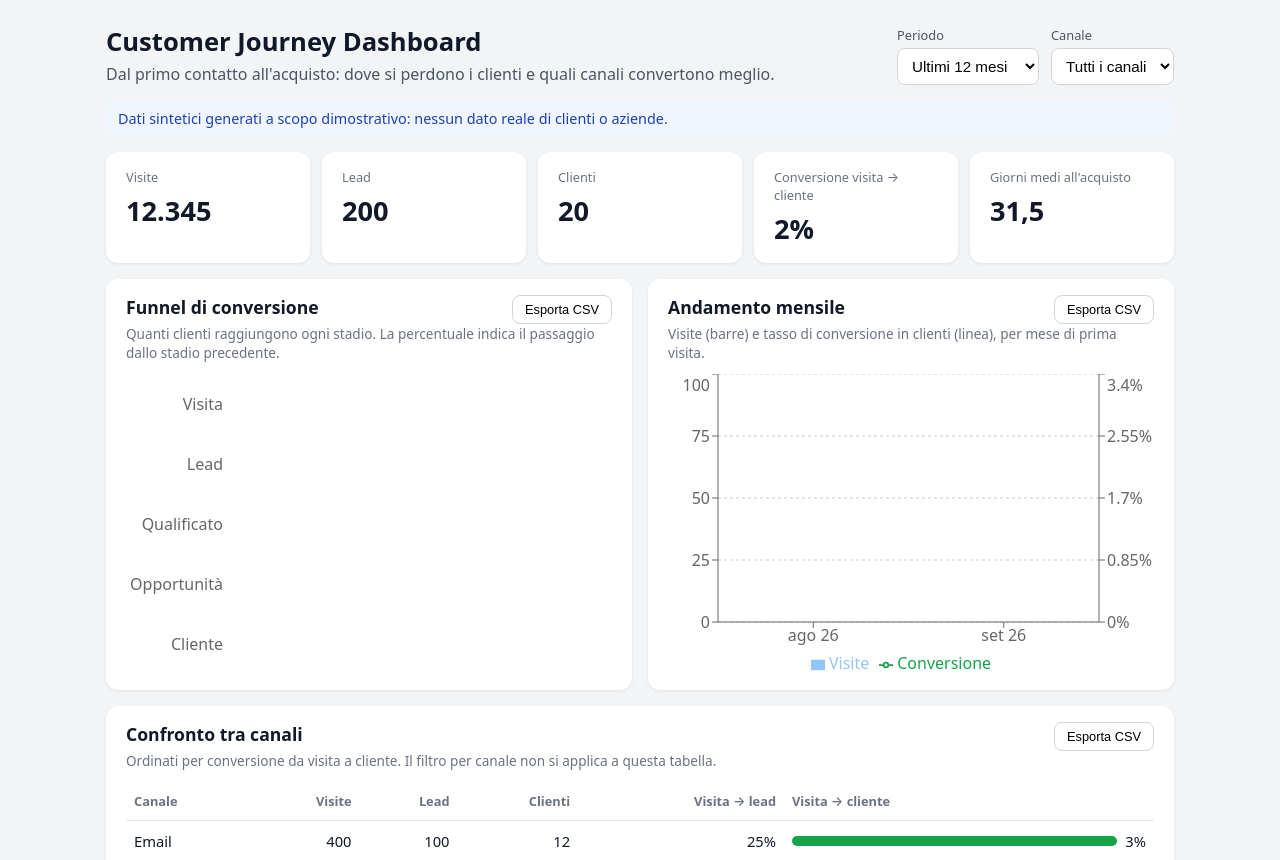
App - filtri e stati › avvisa se la data di inizio è successiva a quella di fine e non chiama l'API
Expected: the text "Conversione visita → cliente" is shown, [774,168,899,204]
Select "Personalizzato" in the dropdown labelled "Periodo". click: (968, 66)
box: [897,48,1039,85]
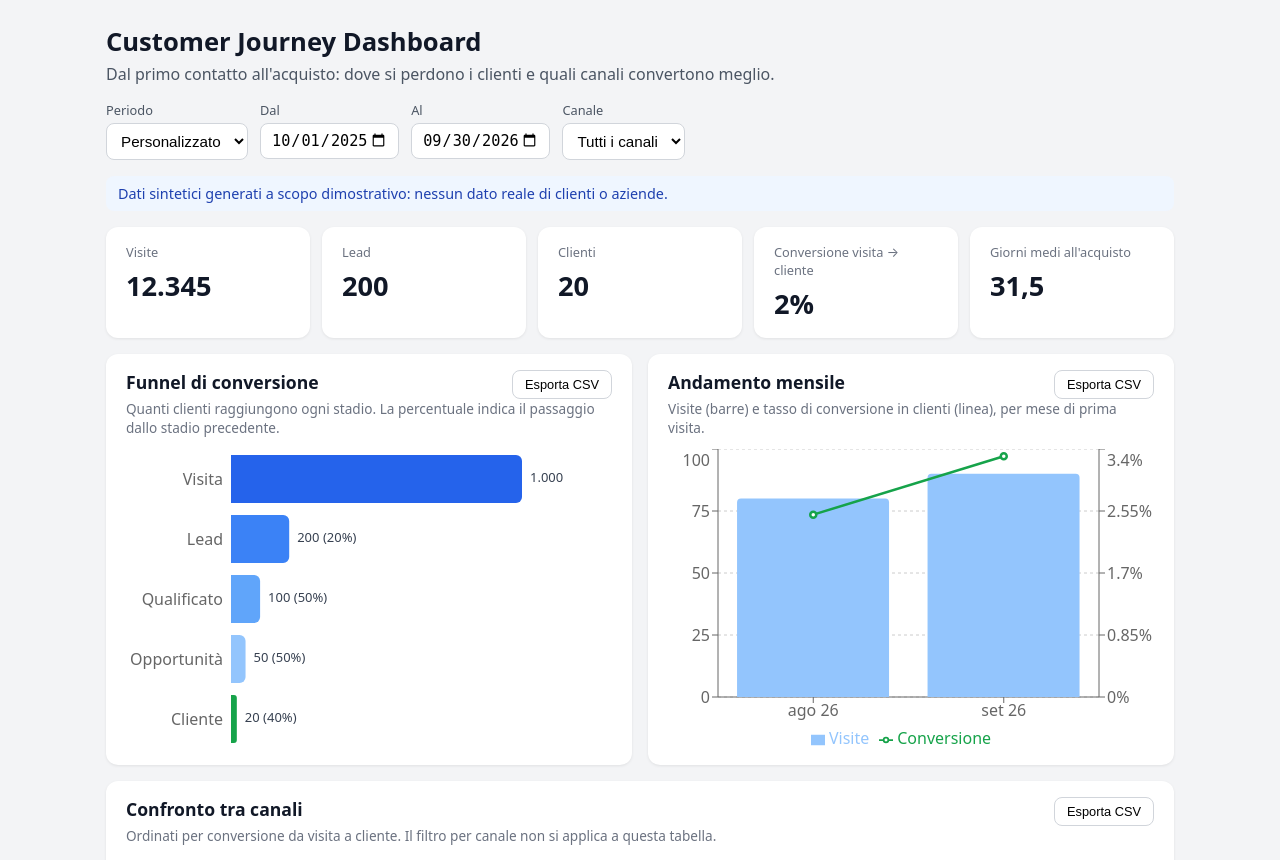
Type "2026-01-01" into the date field labelled "Al". click: (481, 141)
box: [411,123,550,159]
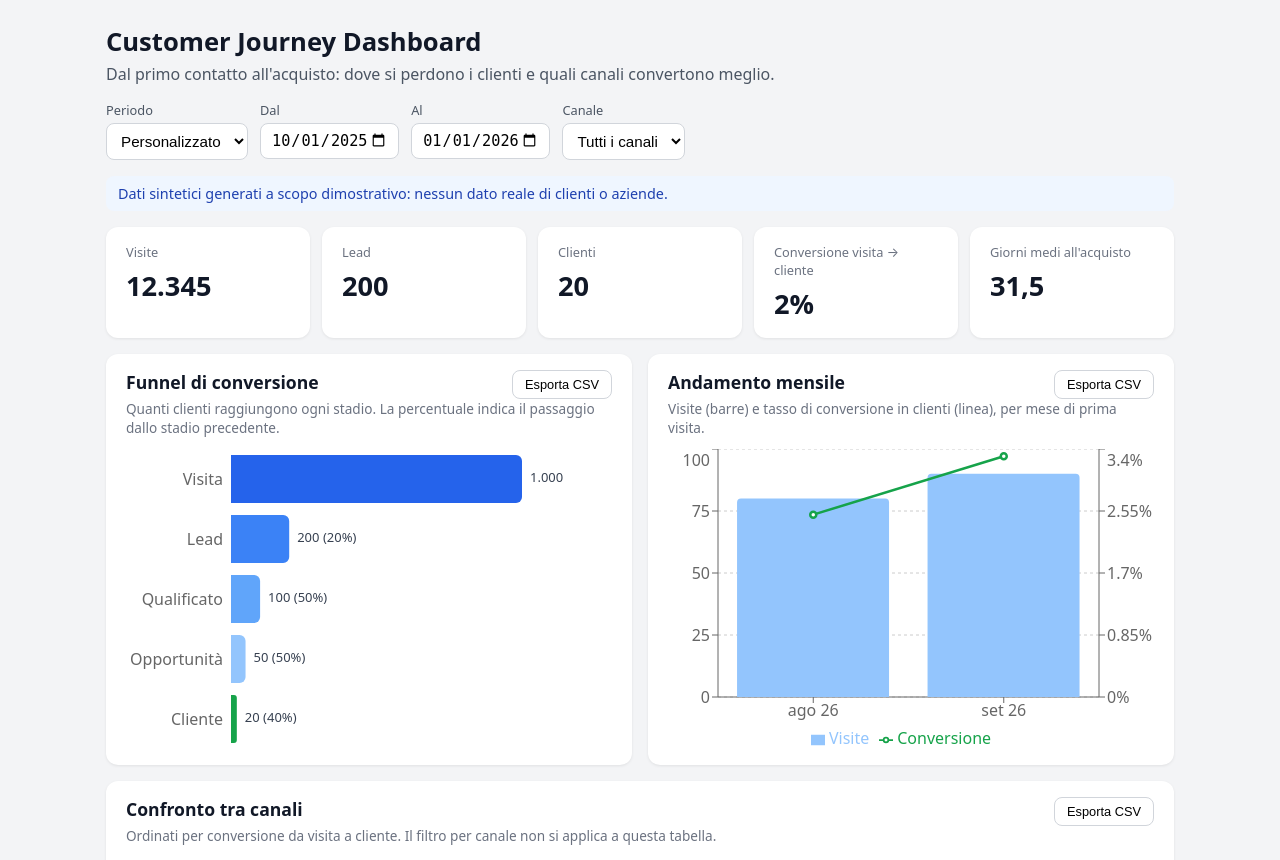
Type "2026-06-01" into the date field labelled "Dal". click: (330, 141)
box: [260,123,399,159]
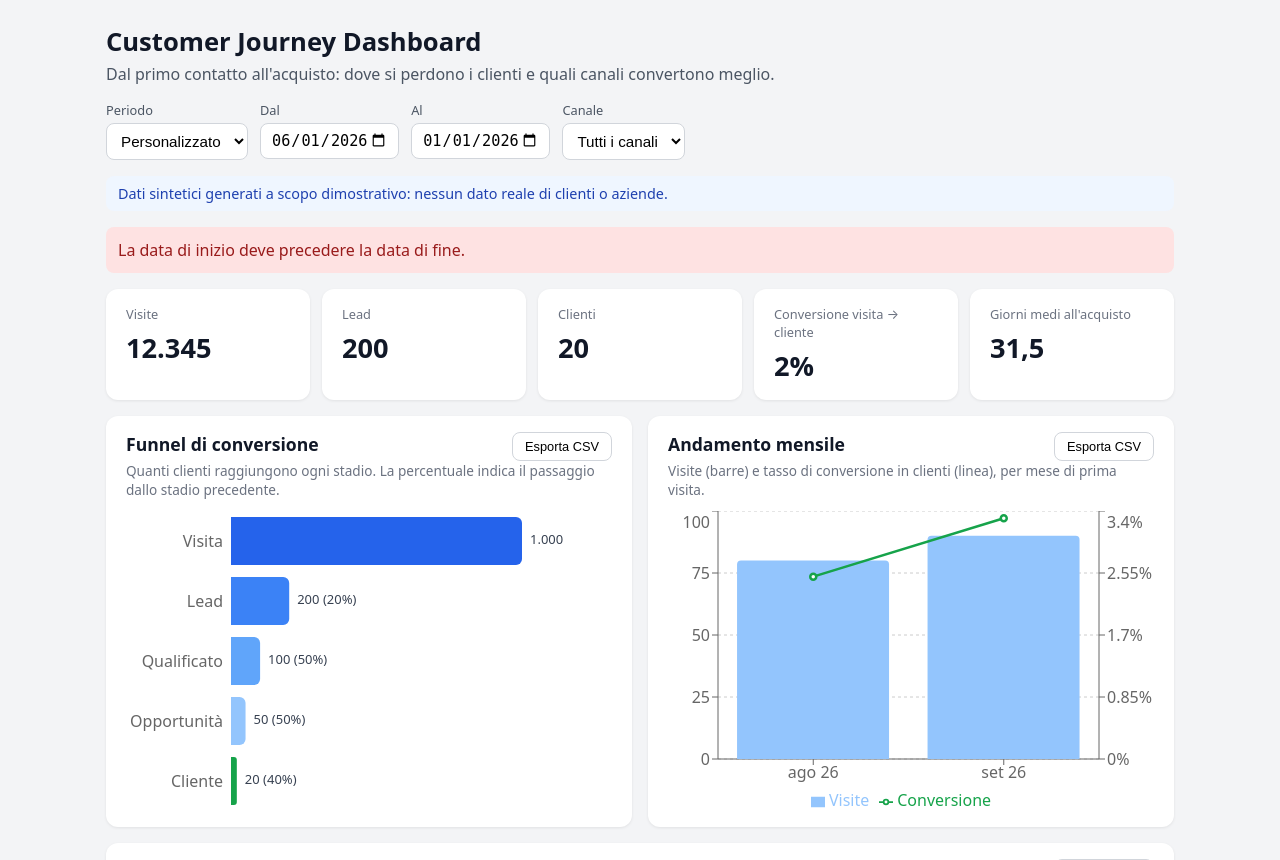
Expected: the text "La data di inizio deve precedere la data di fine." is shown, [106,227,1174,273]
